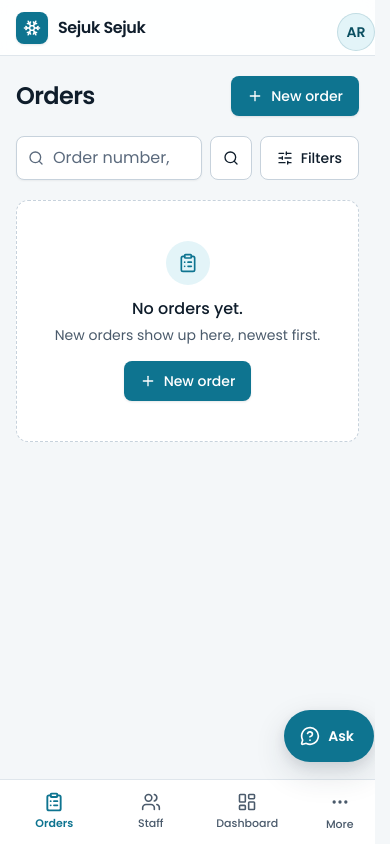
App frame: one navigation per role (0011 Q8, Q9) › puts the Admin items that do not fit in the phone bar under More
Click the button "More": [340, 812] box [296,784,384,840]
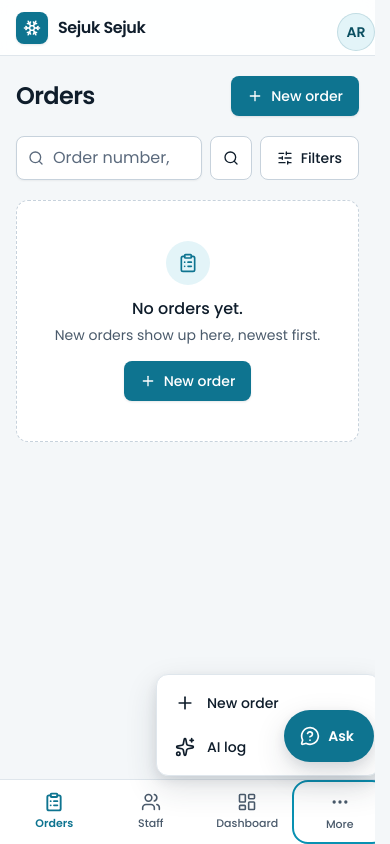
Check: the number of links "AI log" is 2
